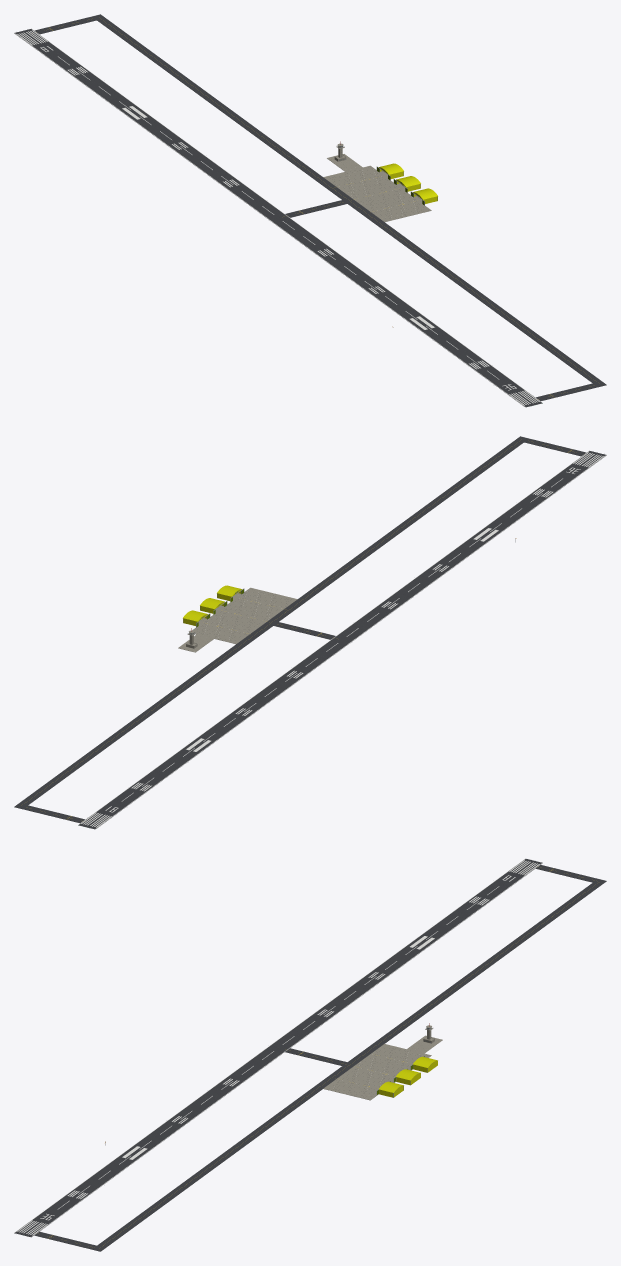
Rendered from airport.glb.
3 renders of one model, top to bottom at view 1: azimuth 30°, elevation 25°; view 2: azimuth 150°, elevation 25°; view 3: azimuth 330°, elevation 25°, orthographic.
Visible parts, largest first — view 1: pavement; view 2: pavement; view 3: pavement.
Part boxes in pixels (x1,y1,x2,y2): pavement: (14, 14, 606, 407); pavement: (14, 436, 606, 829); pavement: (14, 858, 606, 1251).
Bounding box in the file's own units: 283 × 30.85 × 1503.
17 materials, 5 textured.
